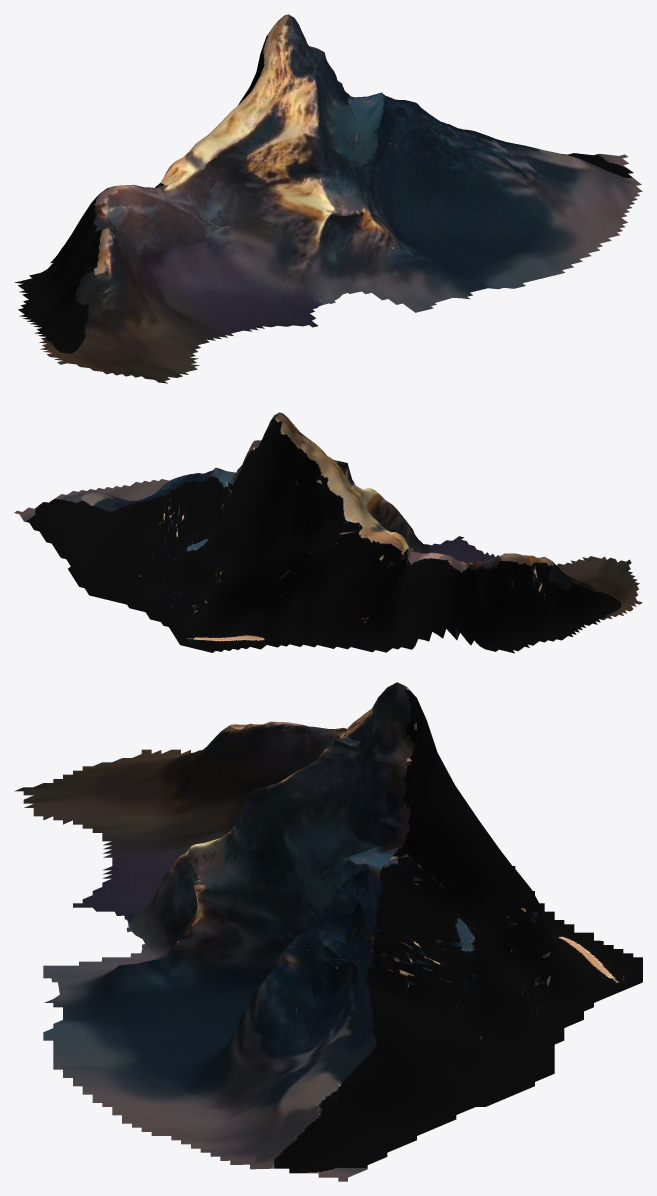
Rendered from gunung.glb.
3 renders of one model, top to bottom at view 1: azimuth 30°, elevation 25°; view 2: azimuth 150°, elevation 25°; view 3: azimuth 270°, elevation 25°, orthographic. The views are drawn at different scales.
Visible parts, largest first — view 1: Gunung; view 2: Gunung; view 3: Gunung.
Part boxes in pixels (x1,y1,x2,y2): Gunung: (15, 14, 642, 383); Gunung: (14, 412, 642, 653); Gunung: (14, 682, 642, 1181).
Bounding box in the file's own units: 15.44 × 4.73 × 9.5.
Materials: 1 (1 with a texture image).
